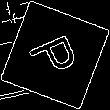P_NE: (25, 28, 85, 82)
